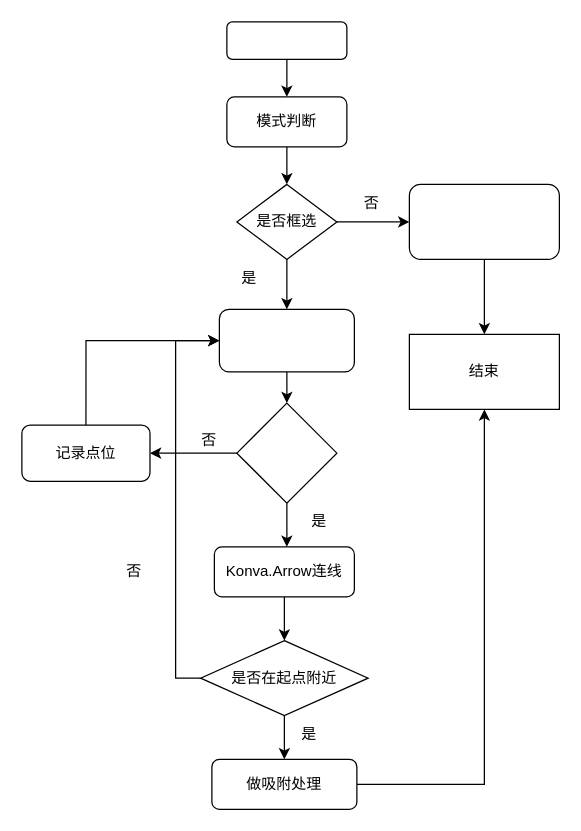
Some shapes in this 581 by 831 pixel diagram are drawn without their labels. Each missing label, with the centre of its shape:
"做放缩、清除、移动等操作" belongs at point (483, 221).
"偶数点位" belongs at point (286, 452).
"开始" belongs at point (286, 40).
"监听鼠标点击" belongs at point (286, 340).
